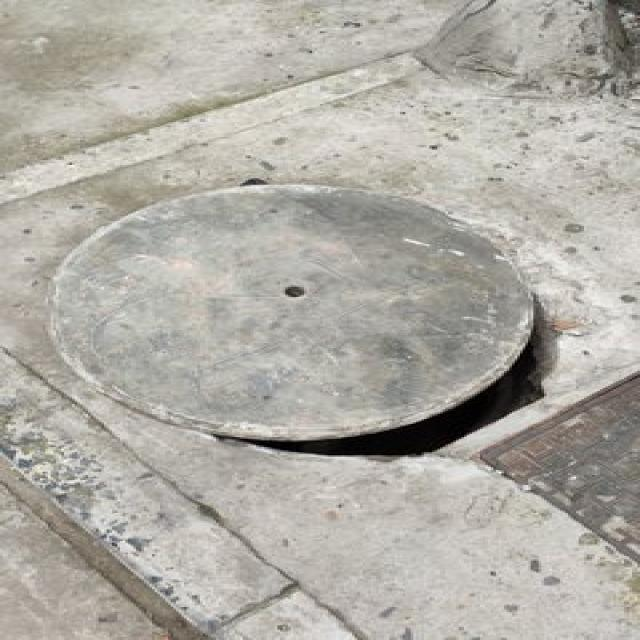manhole: (45, 185, 556, 455)
